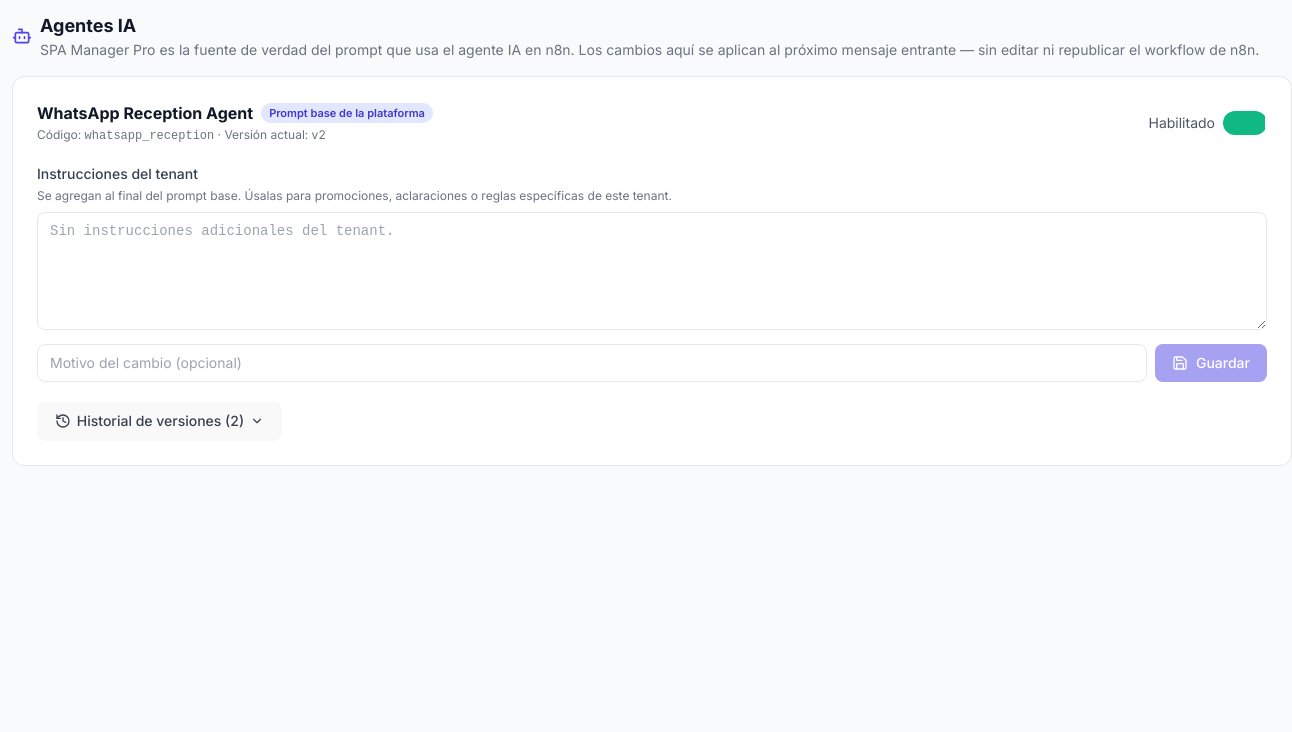
Test: AiAgentsSettings — version history and restore › shows version history entries and marks the current version
Expected: the heading "WhatsApp Reception Agent" is shown, [37,101,253,125]
Click the button "Historial de versiones (2)".
click(159, 421)  # box [37,402,282,441]
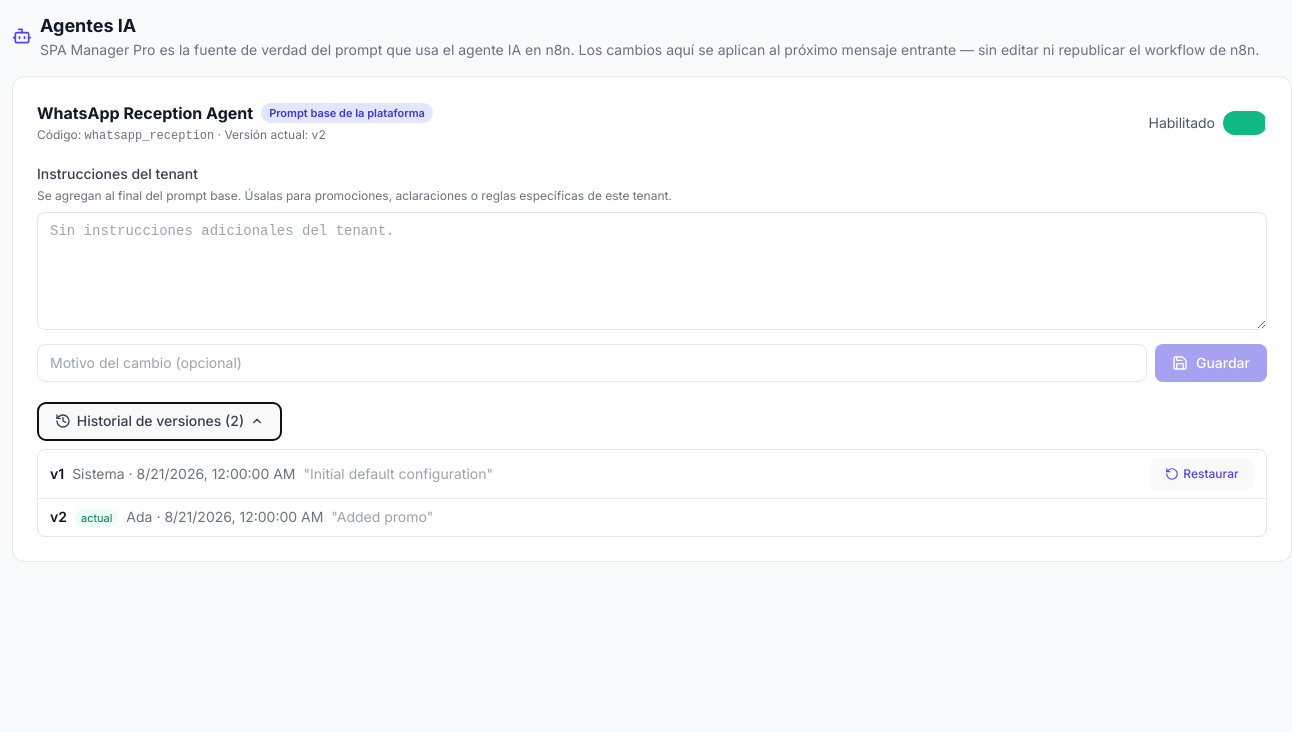
Expected: the text "v1" is shown, [50,465,64,482]
Expected: the text "v2" is shown, [50,508,67,525]
Expected: the text "actual" is shown, [75,509,118,527]
